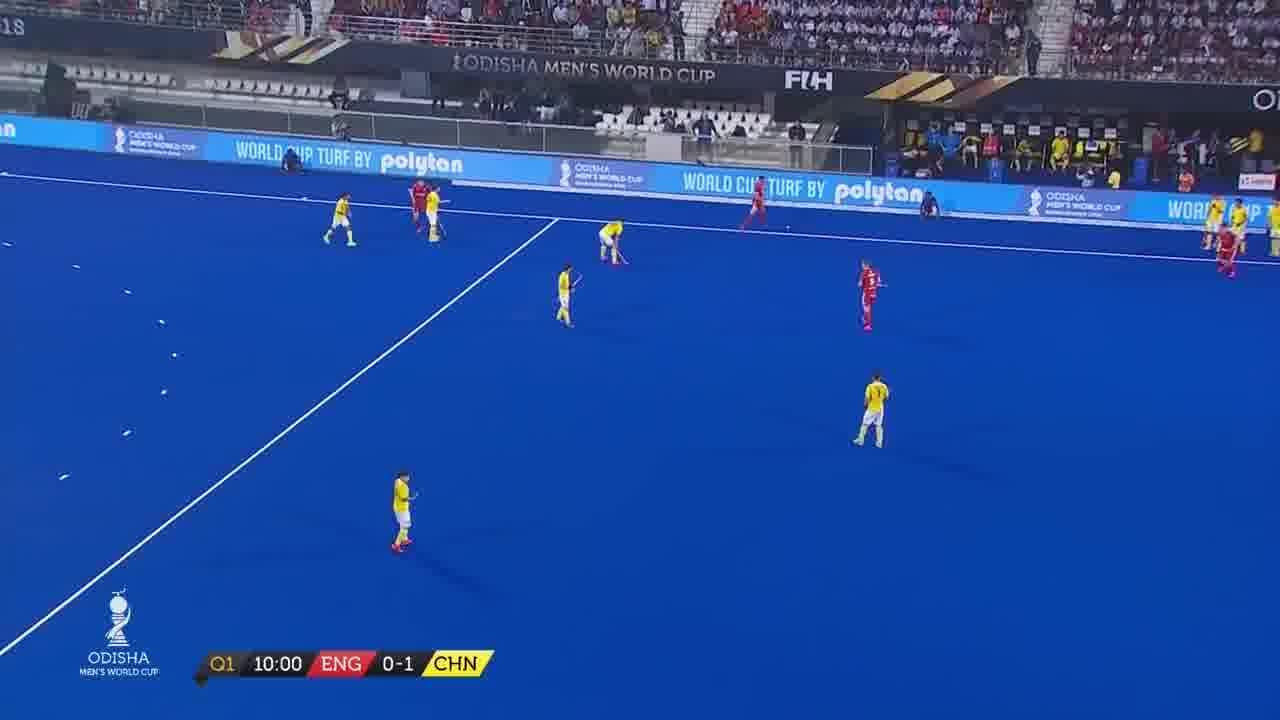ball: (782, 223, 792, 233)
